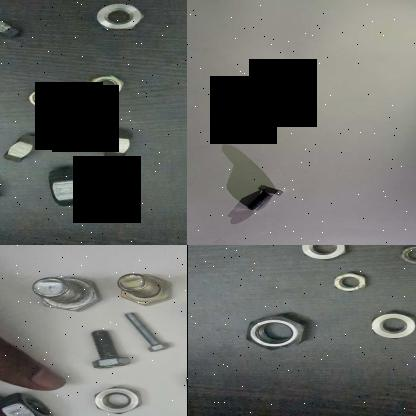Bolts: (25, 277, 107, 313), (114, 267, 184, 308), (70, 324, 132, 370), (118, 312, 172, 354), (240, 184, 286, 214)
NUTS: (24, 164, 106, 214), (236, 308, 316, 352), (78, 384, 147, 416), (90, 0, 147, 30), (367, 309, 416, 341), (0, 129, 44, 162), (83, 70, 123, 98), (296, 245, 352, 264), (100, 126, 132, 159), (326, 270, 372, 292), (24, 84, 66, 108), (390, 245, 416, 266), (0, 18, 25, 38), (177, 367, 187, 393)
